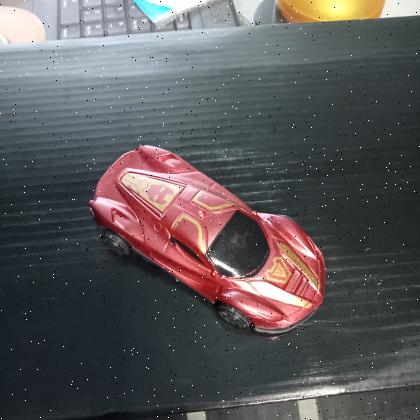Car: (84, 140, 331, 338)
